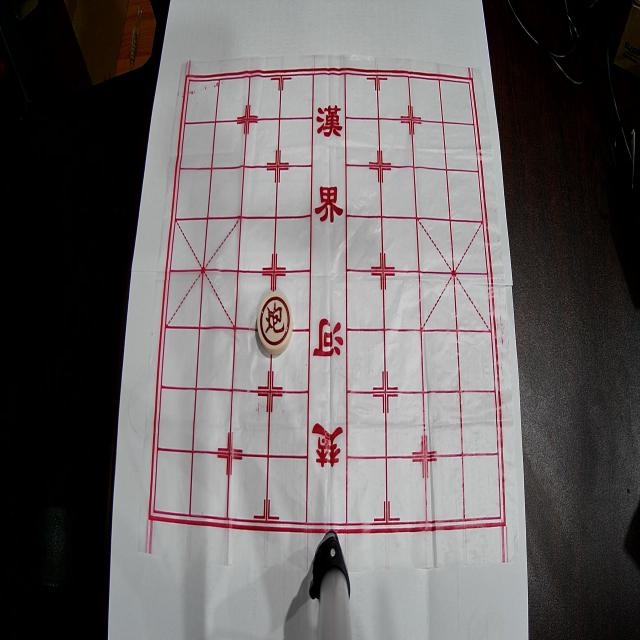red-cannon: (257, 292, 293, 354)
